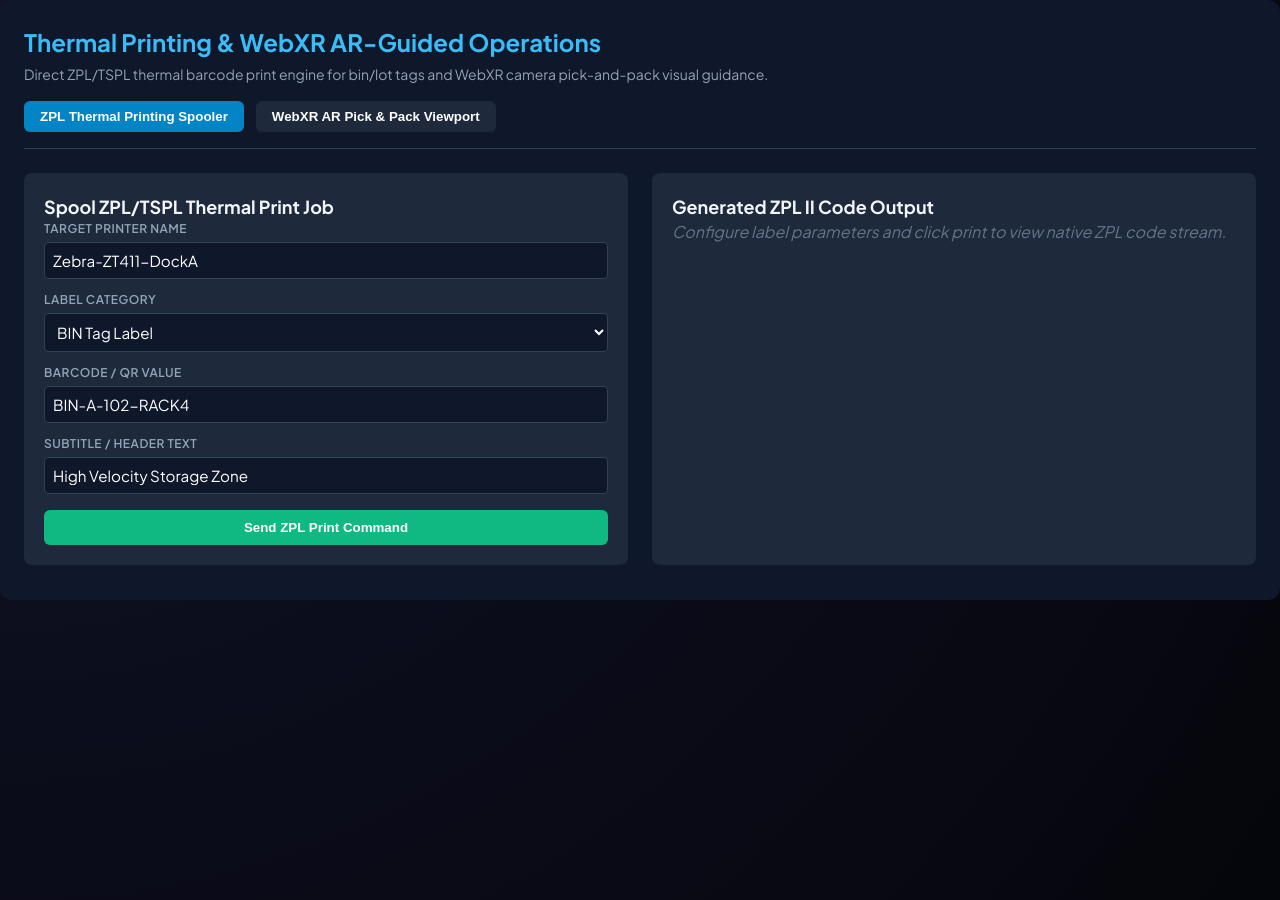
Test: ThermalPrintingArPanel › handles fetch fallback correctly when no api provided
The width and height of the screenshot is (1280, 900).
Click the button "Send ZPL Print Command" at (326, 528), box left=44, top=510, right=608, bottom=545
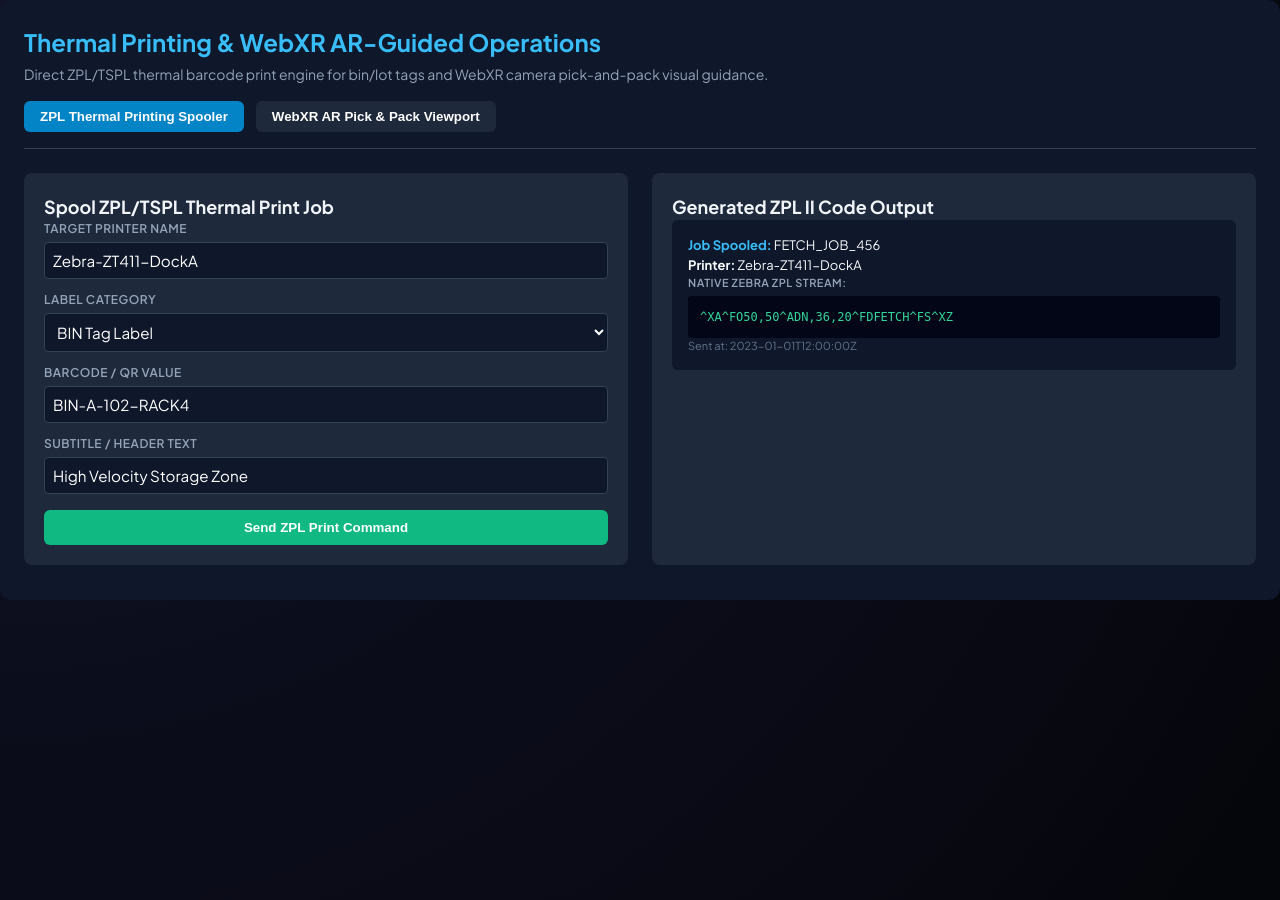
Expected: the text "Job Spooled: FETCH_JOB_456" is shown, left=688, top=237, right=880, bottom=253
Expected: the text "^XA^FO50,50^ADN,36,20^FDFETCH^FS^XZ" is shown, left=688, top=296, right=1220, bottom=338
